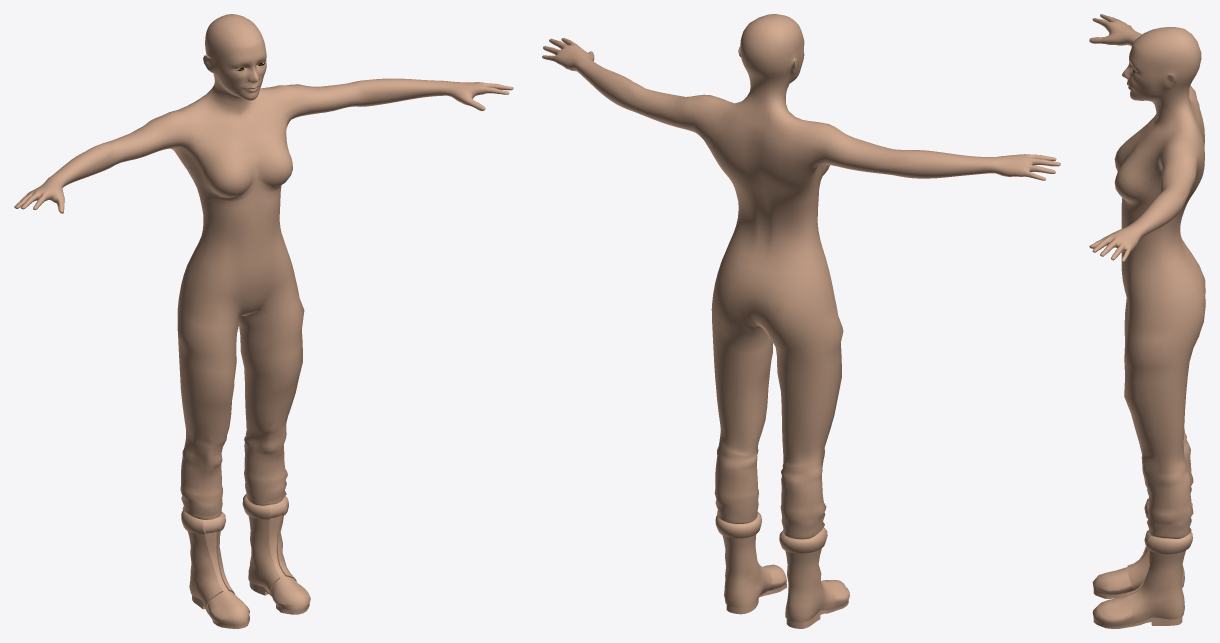
File: LCTankTopTest.fbx
The picture shows the model from 3 angles, left to right: view 1: azimuth 30°, elevation 25°; view 2: azimuth 150°, elevation 25°; view 3: azimuth 270°, elevation 25°; orthographic projection. The views are drawn at different scales.
Parts seen in each view (by area): view 1: polySurface2; view 2: polySurface2; view 3: polySurface2.
Part boxes in pixels (<box>): polySurface2: <box>14,14,513,628</box>; polySurface2: <box>542,14,1060,628</box>; polySurface2: <box>1089,14,1205,628</box>.
Size of the model in its own units: 1784 by 1988 by 363.
